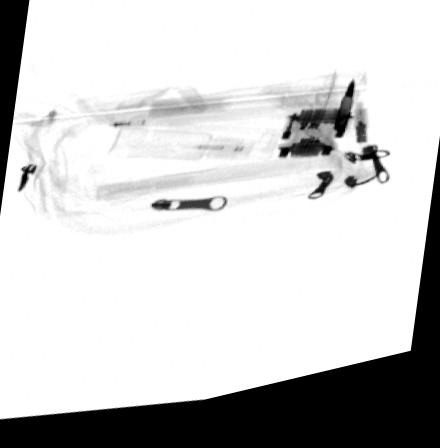Bullet: (324, 93, 355, 155)
